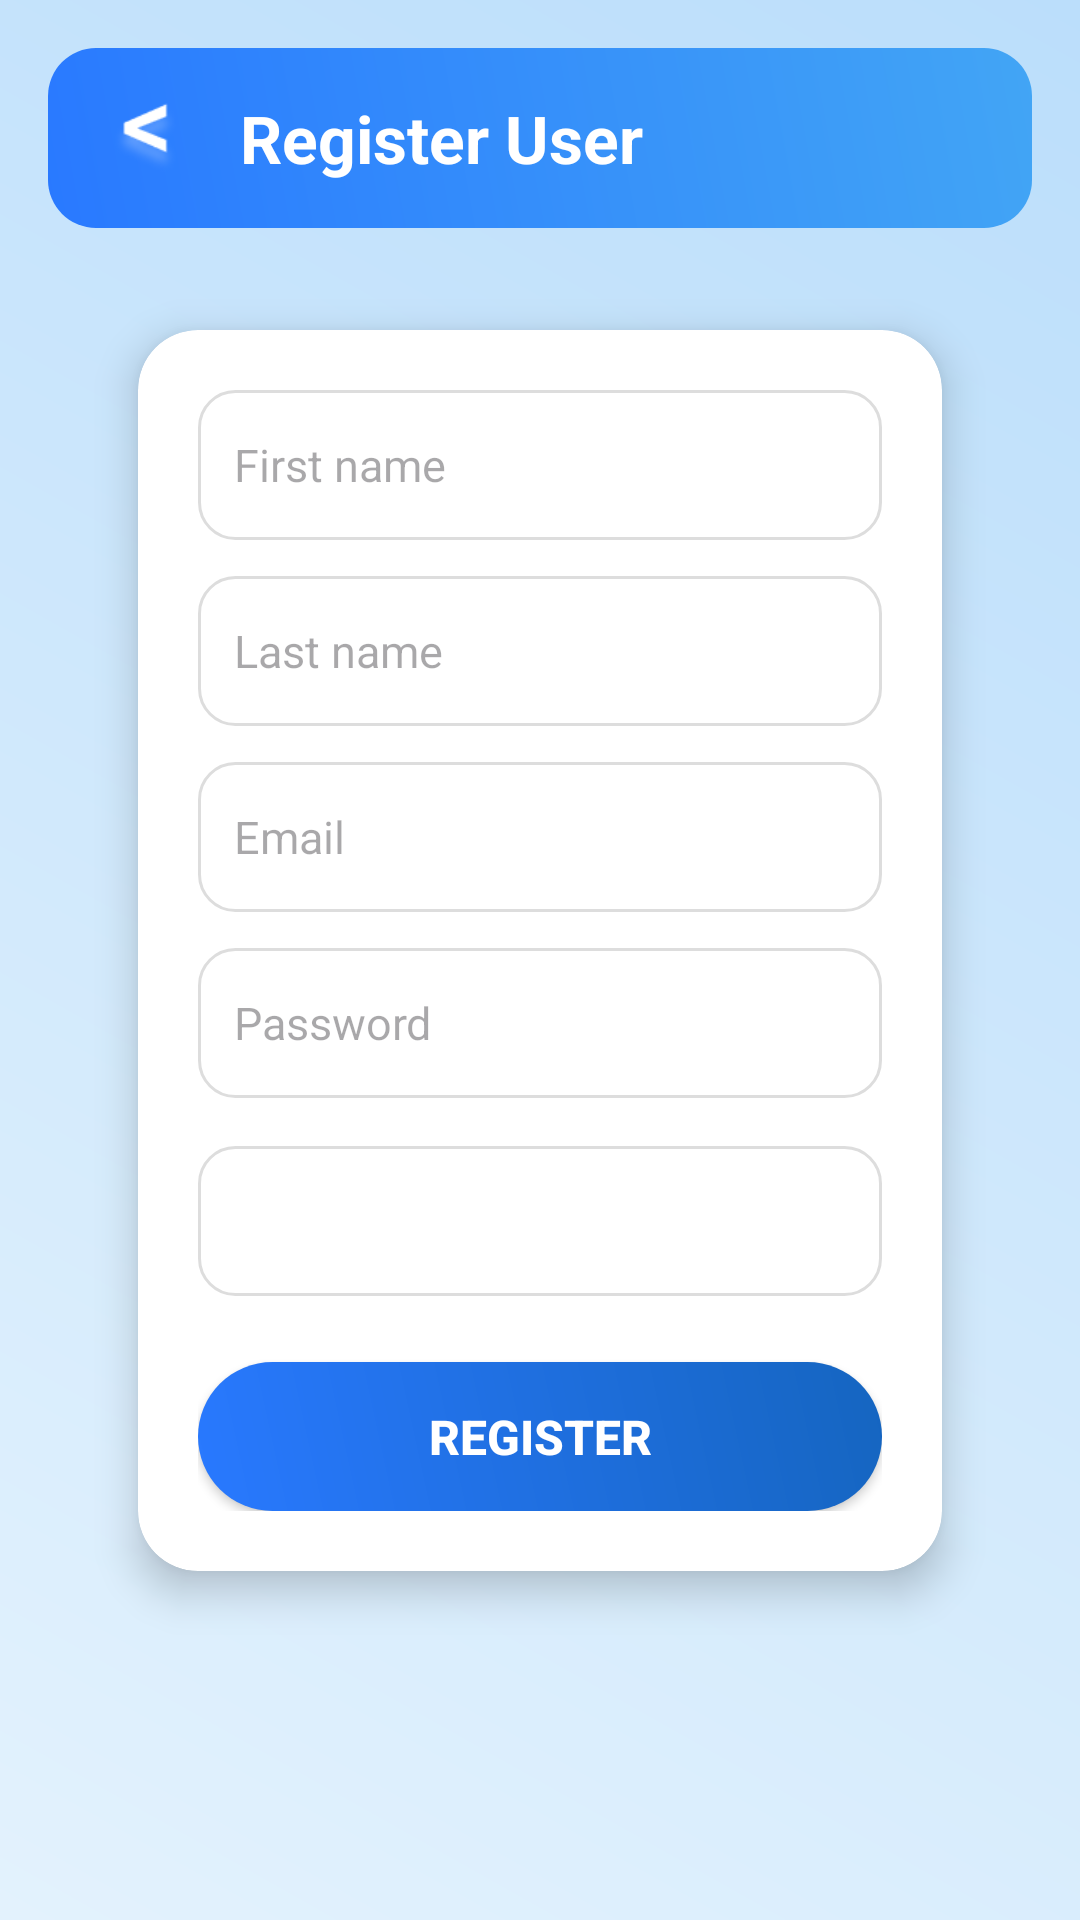

Icon click points for this 1080w x 1920h phone screenshot, format point (x, y):
Back: point (145, 132)
